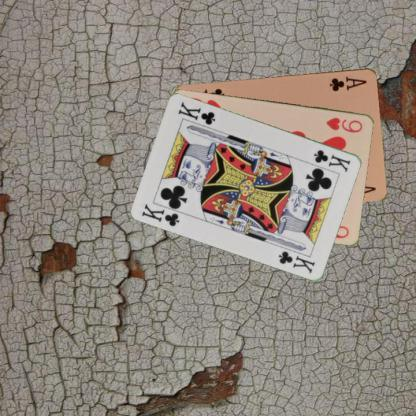9h: (324, 114, 364, 134)
Ac: (327, 74, 368, 92)
Kc: (139, 200, 181, 228), (311, 147, 352, 173)
